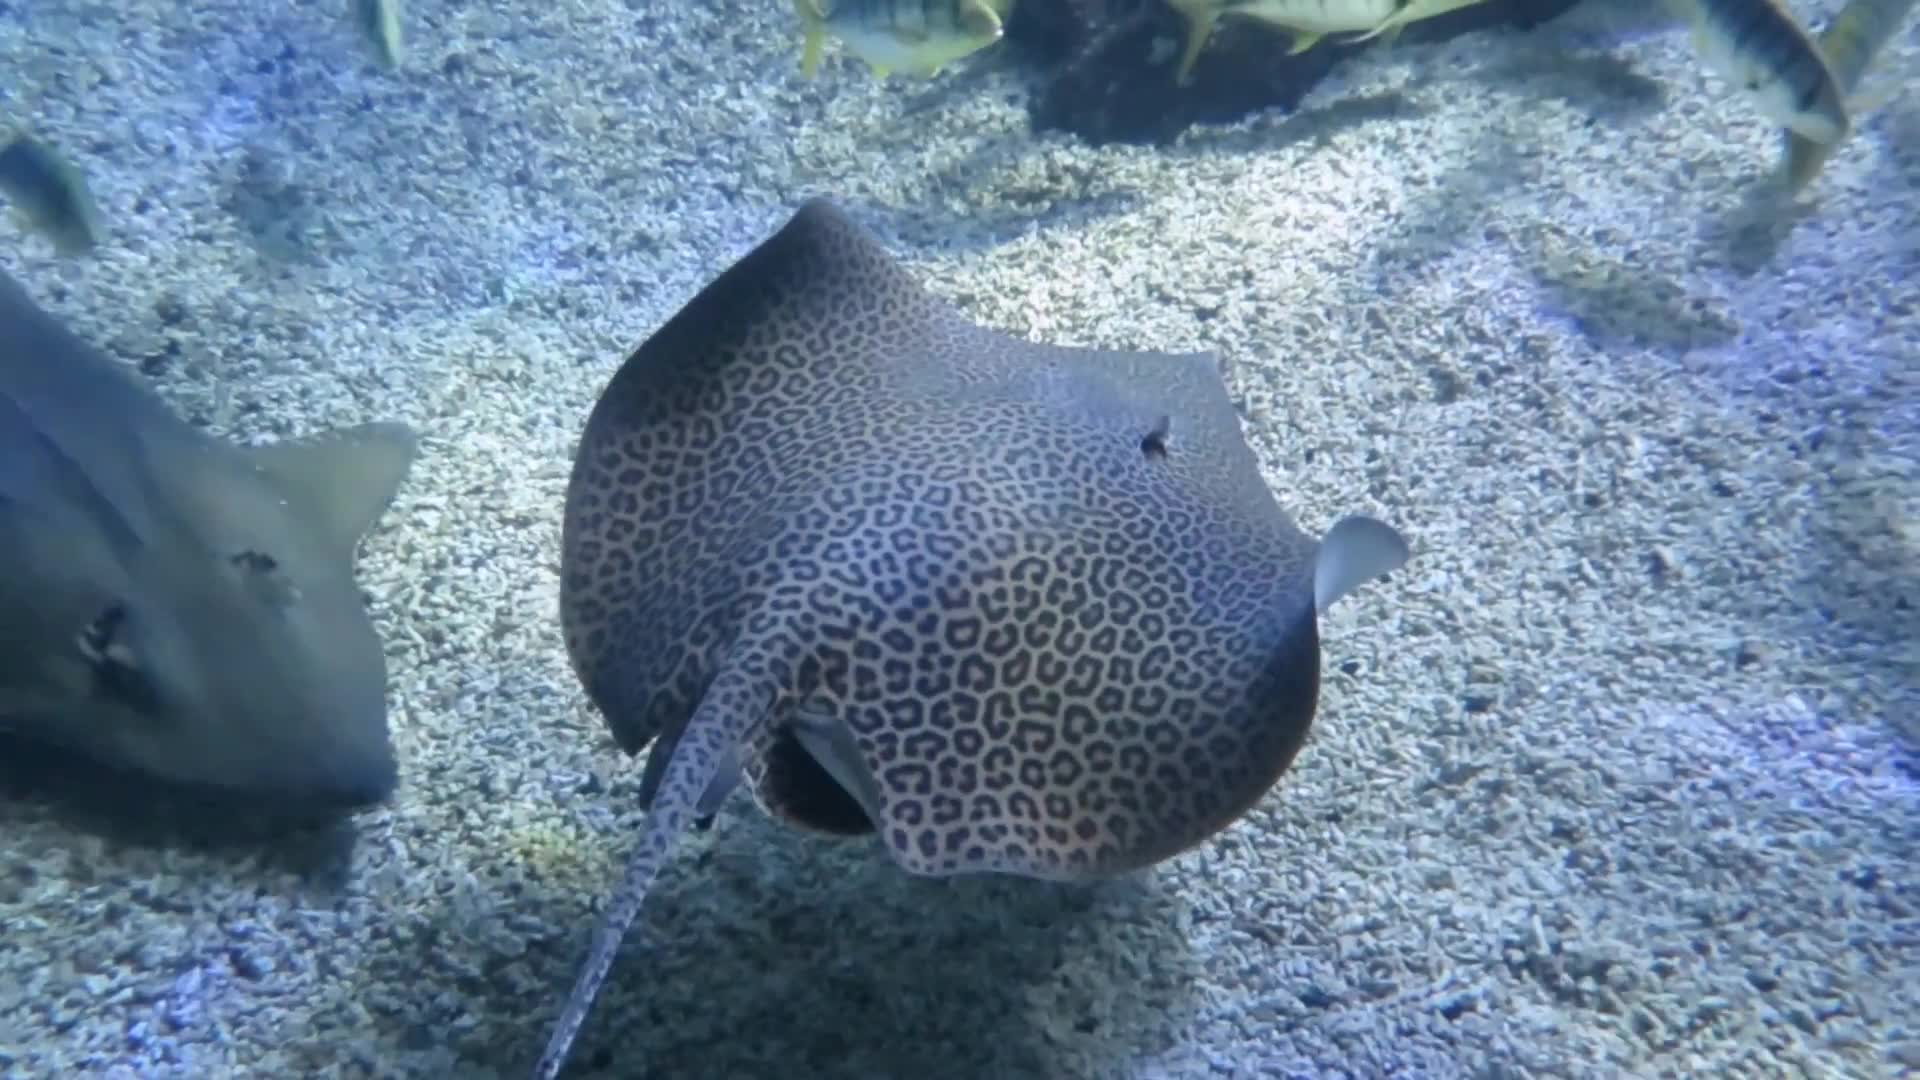Himantura uarnak: (463, 166, 1410, 1080)
